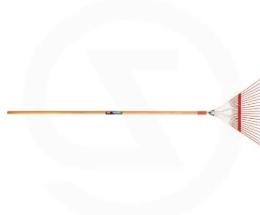RATEAU: (0, 70, 260, 215)
